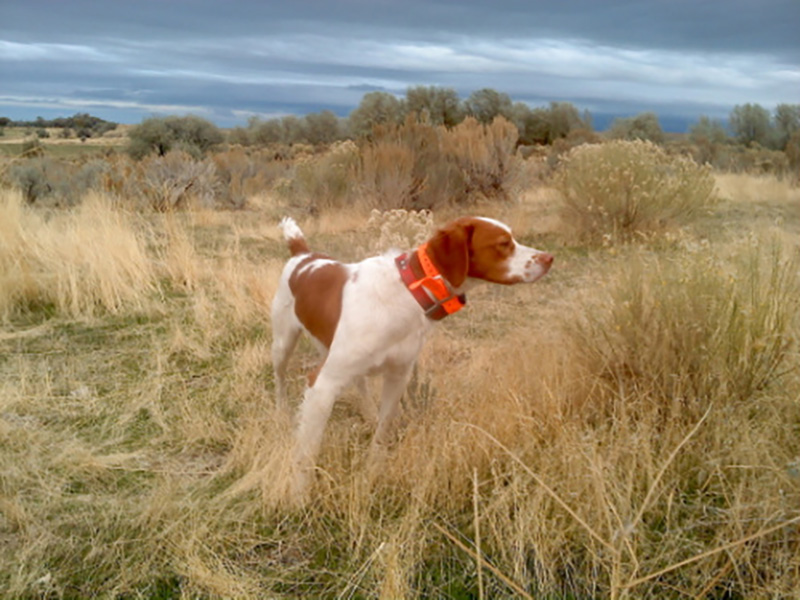cane da caccia: (265, 200, 568, 515)
